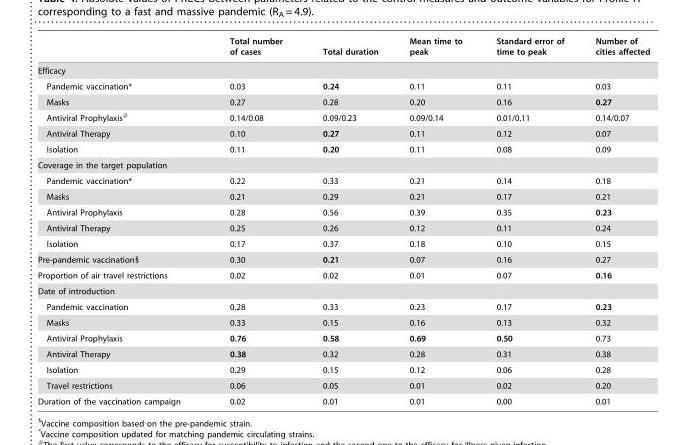table: (37, 36, 649, 405)
table column: (37, 36, 204, 405), (478, 36, 579, 405), (204, 36, 302, 405), (302, 36, 393, 405), (393, 36, 478, 405), (579, 36, 649, 405)
table column header: (37, 36, 649, 61)
table projected row header: (37, 61, 649, 78), (37, 157, 649, 172), (37, 283, 649, 298)
table row: (37, 36, 649, 61), (37, 61, 649, 78), (37, 78, 649, 94), (37, 109, 649, 125), (37, 125, 649, 141), (37, 141, 649, 157), (37, 172, 649, 188), (37, 188, 649, 204), (37, 204, 649, 220), (37, 235, 649, 251), (37, 251, 649, 267), (37, 267, 649, 283), (37, 298, 649, 314), (37, 314, 649, 330), (37, 330, 649, 346), (37, 361, 649, 377), (37, 377, 649, 393), (37, 94, 649, 109), (37, 157, 649, 172), (37, 220, 649, 235), (37, 283, 649, 298), (37, 346, 649, 361), (37, 393, 649, 405)
